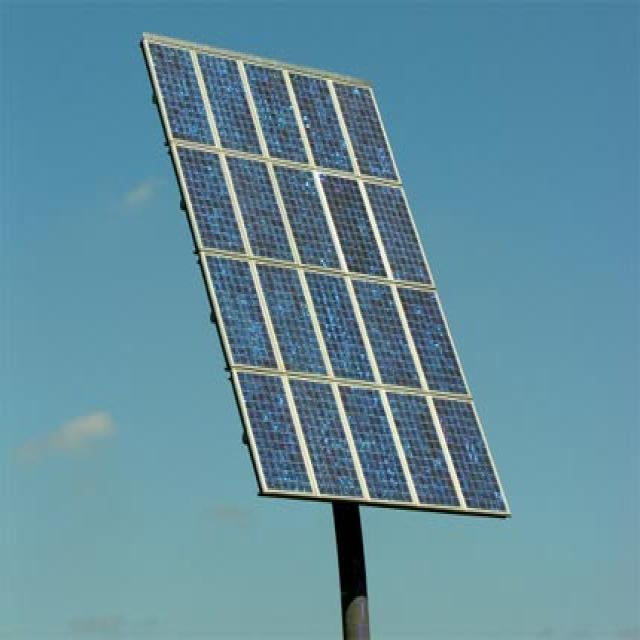dust-solar-panel: (151, 44, 213, 144)
